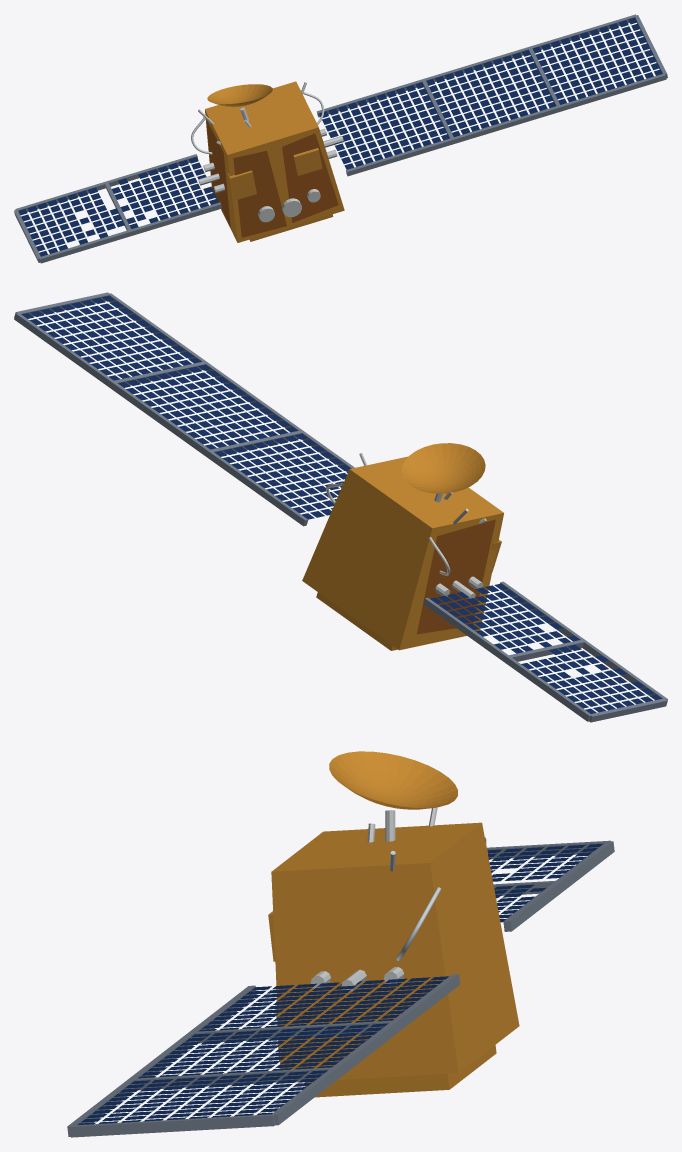
The model's file is OCEANSAT-1.glb.
3 renders of one model, top to bottom at view 1: azimuth 30°, elevation 25°; view 2: azimuth 150°, elevation 25°; view 3: azimuth 270°, elevation 25°, orthographic. The views are drawn at different scales.
Parts seen in each view (by area): view 1: OCEANSAT_1_CONSOLIDATED_SOLAR_CELLS, OCEANSAT_1_MAIN_GOLD_BUS, OCEANSAT_1_CONSOLIDATED_SOLAR_FRAMES, OCEANSAT_1_CONSOLIDATED_MLI_FACETS, OCEANSAT_1_CONSOLIDATED_EQUIPMENT, OCEANSAT_1_UPPER_REFLECTOR, OCEANSAT_1_PAYLOAD_APERTURES; view 2: OCEANSAT_1_CONSOLIDATED_SOLAR_CELLS, OCEANSAT_1_MAIN_GOLD_BUS, OCEANSAT_1_CONSOLIDATED_SOLAR_FRAMES, OCEANSAT_1_CONSOLIDATED_MLI_FACETS, OCEANSAT_1_UPPER_REFLECTOR; view 3: OCEANSAT_1_MAIN_GOLD_BUS, OCEANSAT_1_CONSOLIDATED_SOLAR_CELLS, OCEANSAT_1_CONSOLIDATED_SOLAR_FRAMES, OCEANSAT_1_UPPER_REFLECTOR, OCEANSAT_1_LOWER_EQUIPMENT_SECTION.
Part boxes in pixels (x1,y1,x2,y2): OCEANSAT_1_CONSOLIDATED_SOLAR_CELLS: [18, 17, 662, 256]; OCEANSAT_1_MAIN_GOLD_BUS: [205, 81, 344, 242]; OCEANSAT_1_CONSOLIDATED_SOLAR_FRAMES: [14, 14, 667, 263]; OCEANSAT_1_CONSOLIDATED_MLI_FACETS: [206, 120, 338, 237]; OCEANSAT_1_CONSOLIDATED_EQUIPMENT: [228, 148, 322, 200]; OCEANSAT_1_UPPER_REFLECTOR: [207, 84, 272, 106]; OCEANSAT_1_PAYLOAD_APERTURES: [258, 189, 320, 222]; OCEANSAT_1_CONSOLIDATED_SOLAR_CELLS: [21, 296, 661, 713]; OCEANSAT_1_MAIN_GOLD_BUS: [302, 456, 503, 650]; OCEANSAT_1_CONSOLIDATED_SOLAR_FRAMES: [14, 292, 667, 722]; OCEANSAT_1_CONSOLIDATED_MLI_FACETS: [417, 519, 495, 634]; OCEANSAT_1_UPPER_REFLECTOR: [401, 443, 485, 493]; OCEANSAT_1_MAIN_GOLD_BUS: [271, 822, 519, 1082]; OCEANSAT_1_CONSOLIDATED_SOLAR_CELLS: [78, 843, 603, 1124]; OCEANSAT_1_CONSOLIDATED_SOLAR_FRAMES: [67, 840, 614, 1137]; OCEANSAT_1_UPPER_REFLECTOR: [329, 751, 457, 809]; OCEANSAT_1_LOWER_EQUIPMENT_SECTION: [305, 1045, 496, 1097].
Size of the model in its own units: 7.77 by 2.02 by 3.3.
